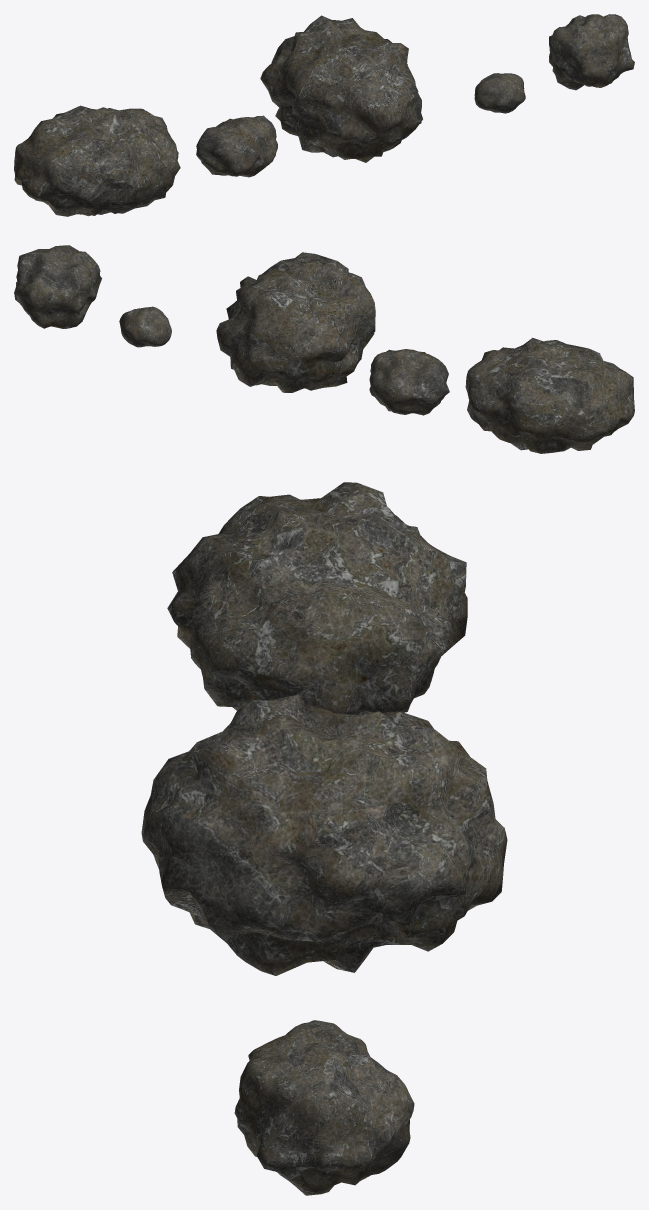
The model's file is rocks.glb.
3 views of the same model, one above another, from view 1: azimuth 30°, elevation 25°; view 2: azimuth 150°, elevation 25°; view 3: azimuth 270°, elevation 25° (orthographic). The views are drawn at different scales.
Parts seen in each view (by area): view 1: rock_1908, rock_1894, rock_1922, rock_1901, rock_1915; view 2: rock_1908, rock_1894, rock_1922, rock_1901, rock_1915; view 3: rock_1908, rock_1894, rock_1922.
Part boxes in pixels (x1,y1,x2,y2): rock_1908: [260, 15, 422, 162]; rock_1894: [14, 105, 180, 216]; rock_1922: [549, 14, 634, 90]; rock_1901: [196, 115, 277, 177]; rock_1915: [474, 73, 525, 113]; rock_1908: [216, 252, 375, 392]; rock_1894: [465, 337, 634, 453]; rock_1922: [14, 245, 101, 328]; rock_1901: [369, 349, 449, 415]; rock_1915: [119, 306, 171, 347]; rock_1908: [141, 694, 507, 975]; rock_1894: [167, 482, 467, 715]; rock_1922: [234, 1029, 414, 1195].
Size of the model in its own units: 9.38 by 1.74 by 2.44.
Materials: 5 (5 with a texture image).
